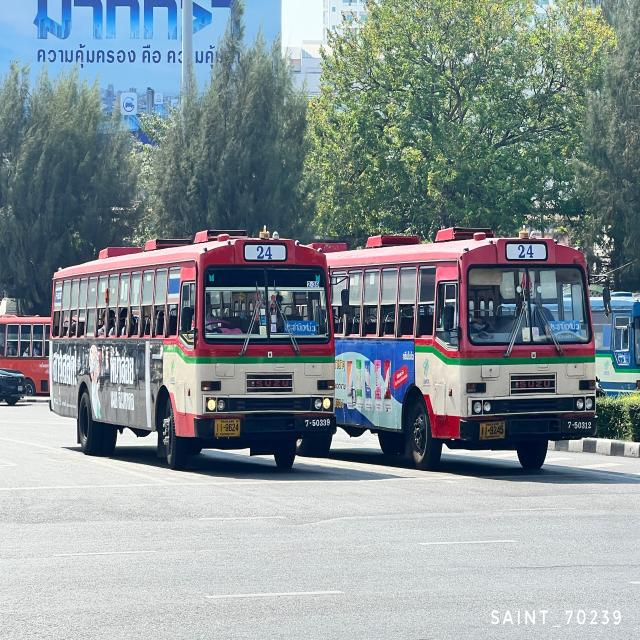BMTA-bus: (45, 218, 338, 496), (303, 214, 600, 474)
Bus-Line-Number: (242, 242, 288, 262), (505, 240, 548, 261)
Destination-Sign-Normal: (545, 321, 582, 339), (282, 319, 319, 335)
